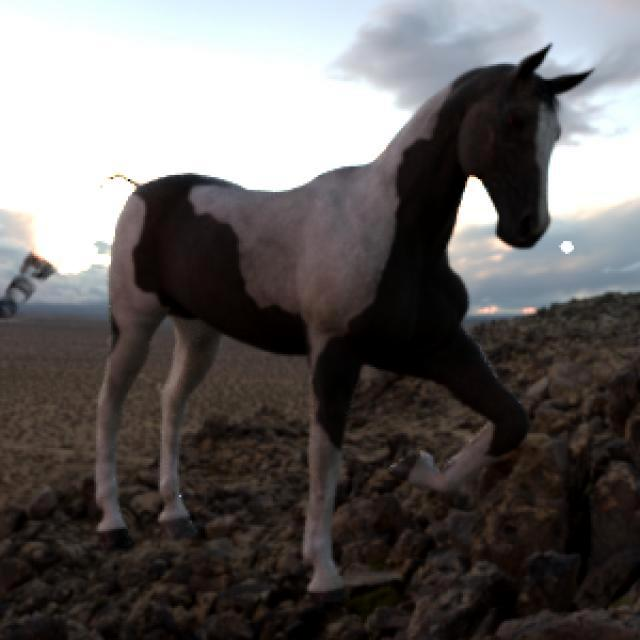horse: (98, 46, 590, 596)
